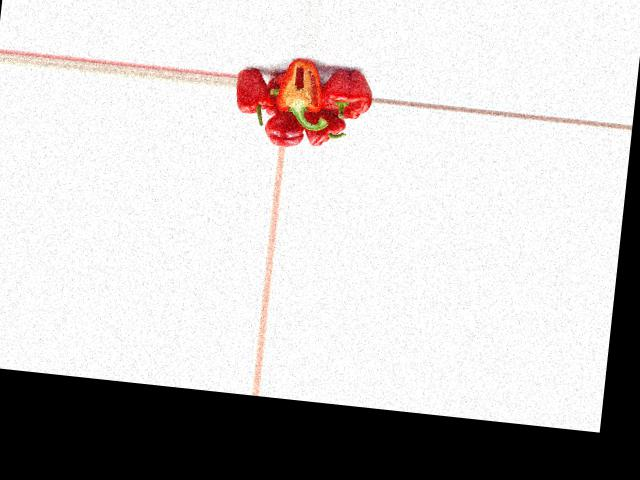bell_pepper: (301, 110, 348, 149)
